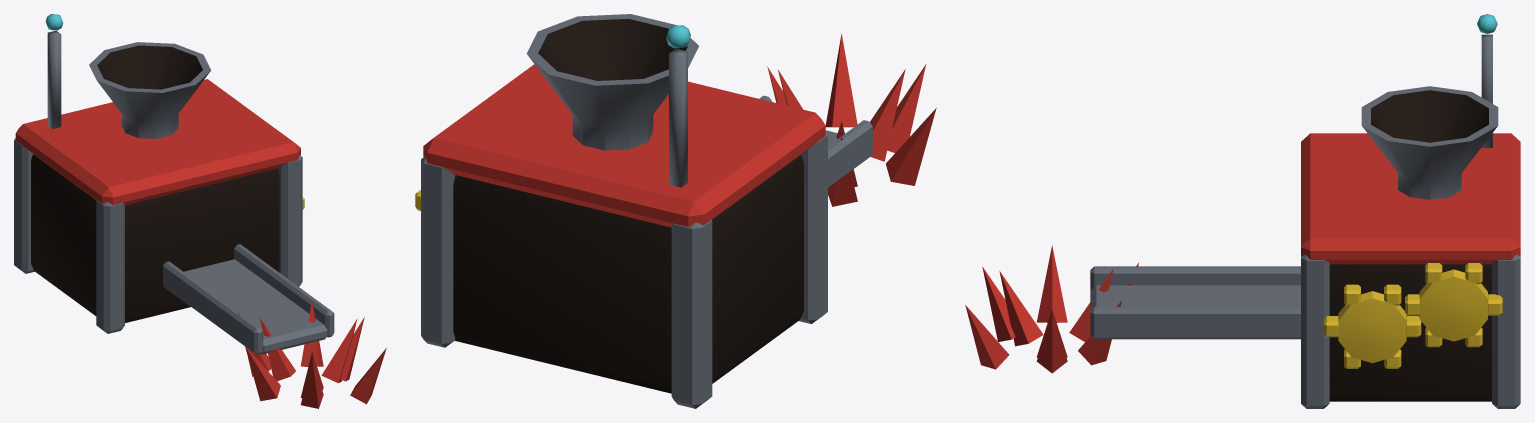
3 views of the same model, side by side, from view 1: azimuth 30°, elevation 25°; view 2: azimuth 150°, elevation 25°; view 3: azimuth 270°, elevation 25° (orthographic). The views are drawn at different scales.
Visible parts, largest first — view 1: espinhos_0_base, espinhos_1_torreta; view 2: espinhos_0_base, espinhos_1_torreta; view 3: espinhos_0_base, espinhos_1_torreta.
Boxes of the visible parts, left/top/right/bottom form: espinhos_0_base: left=14, top=14, right=386, bottom=408; espinhos_1_torreta: left=163, top=244, right=334, bottom=354; espinhos_0_base: left=415, top=14, right=936, bottom=408; espinhos_1_torreta: left=759, top=95, right=872, bottom=187; espinhos_0_base: left=965, top=14, right=1520, bottom=408; espinhos_1_torreta: left=1090, top=266, right=1300, bottom=339.
Bounding box in the file's own units: 0.596 × 0.6918 × 1.16.
